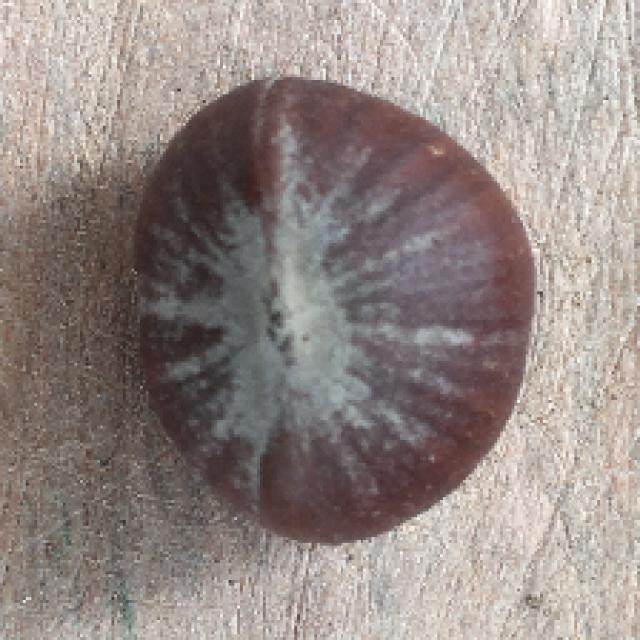damagedHazelnut: (121, 71, 533, 531)
